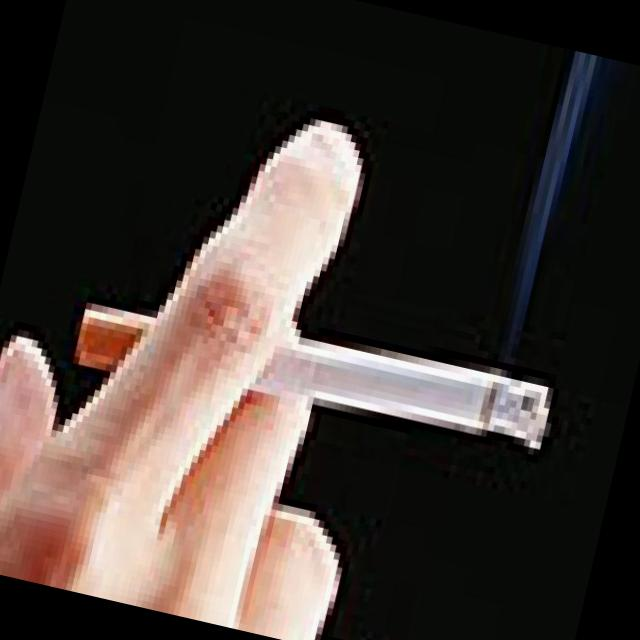smoke: (59, 264, 556, 456)
